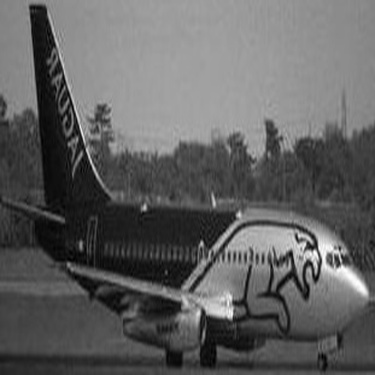airplane: (3, 1, 368, 371)
